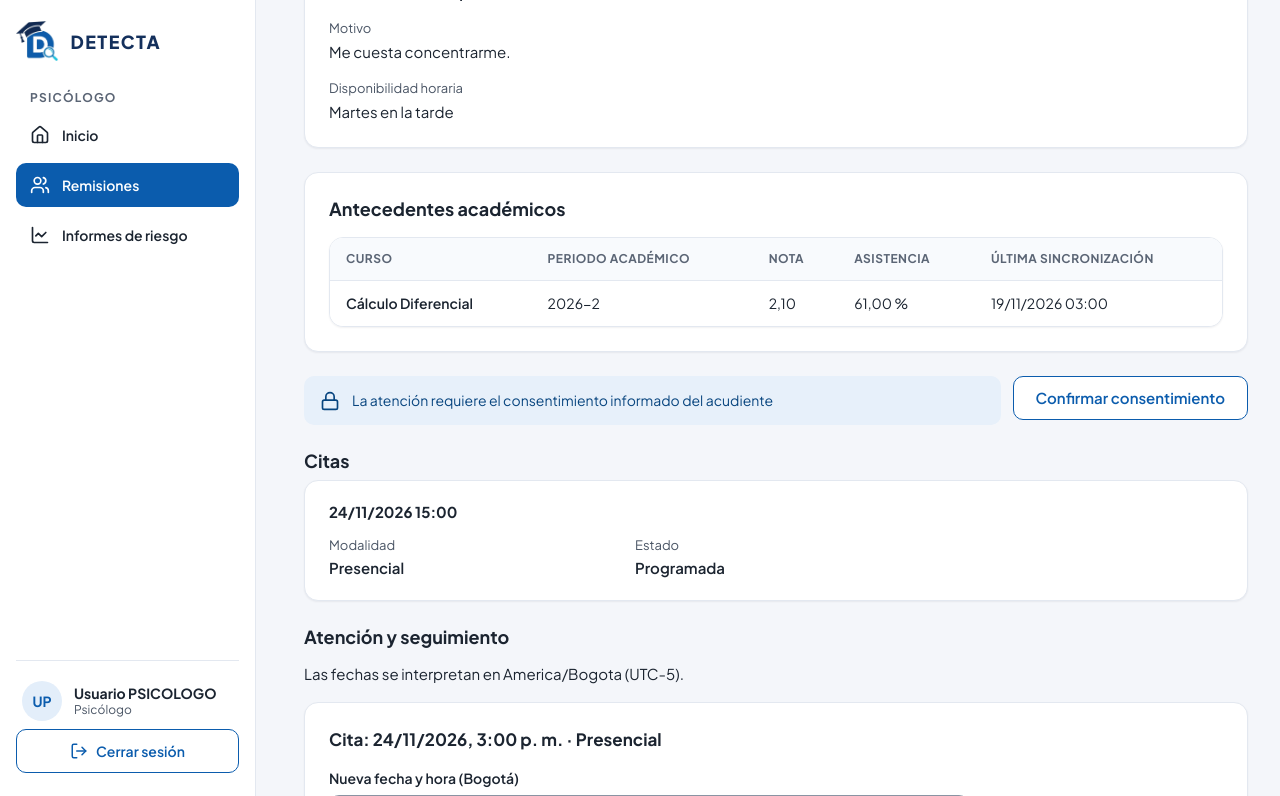
Test case: Consentimiento: confirmación y error (D7a, §7.6) › error al confirmar: se muestra dentro del diálogo, que sigue abierto
(page scrolled)
Click the button "Confirmar consentimiento" at (1130, 398), box [1013, 376, 1248, 420]
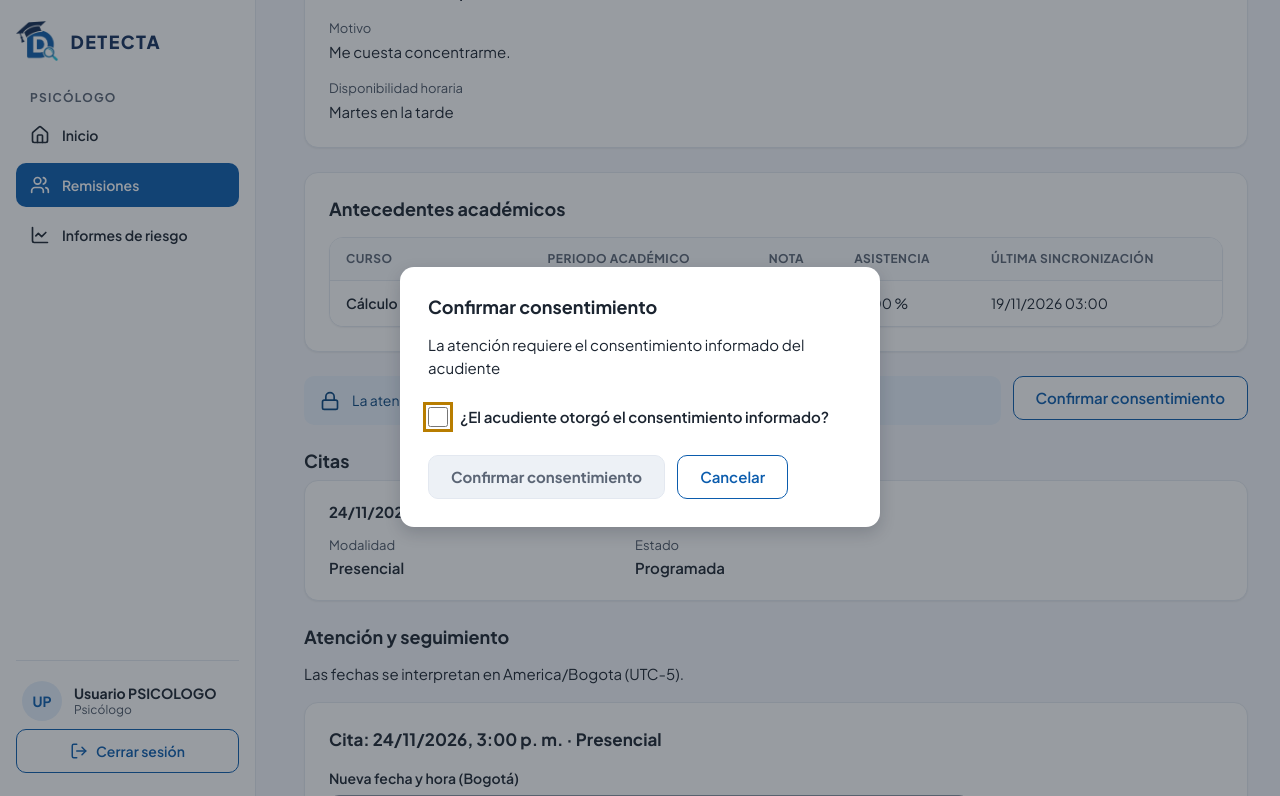
Click the checkbox labelled "¿El acudiente otorgó el consentimiento informado?" at (438, 417), box [428, 407, 448, 427]
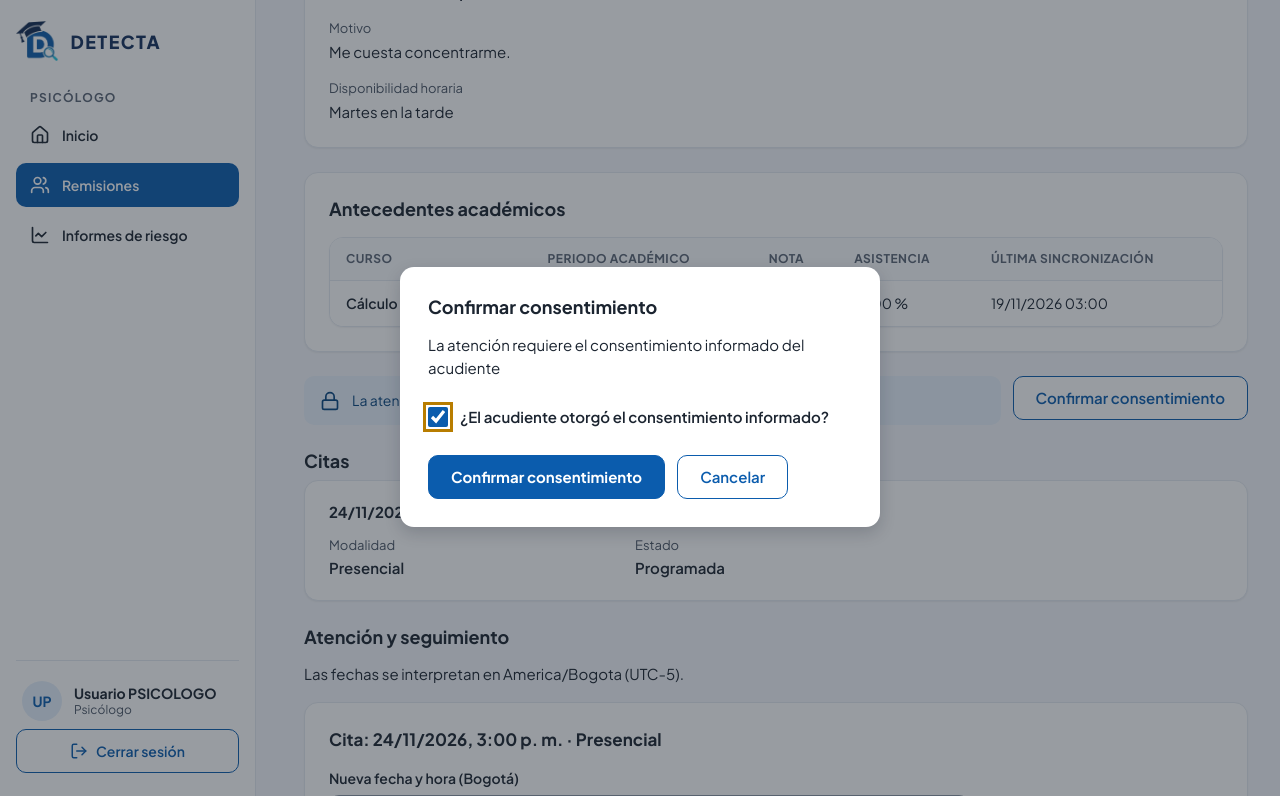
Click the 2nd button "Confirmar consentimiento" at (547, 477), box [428, 455, 665, 499]
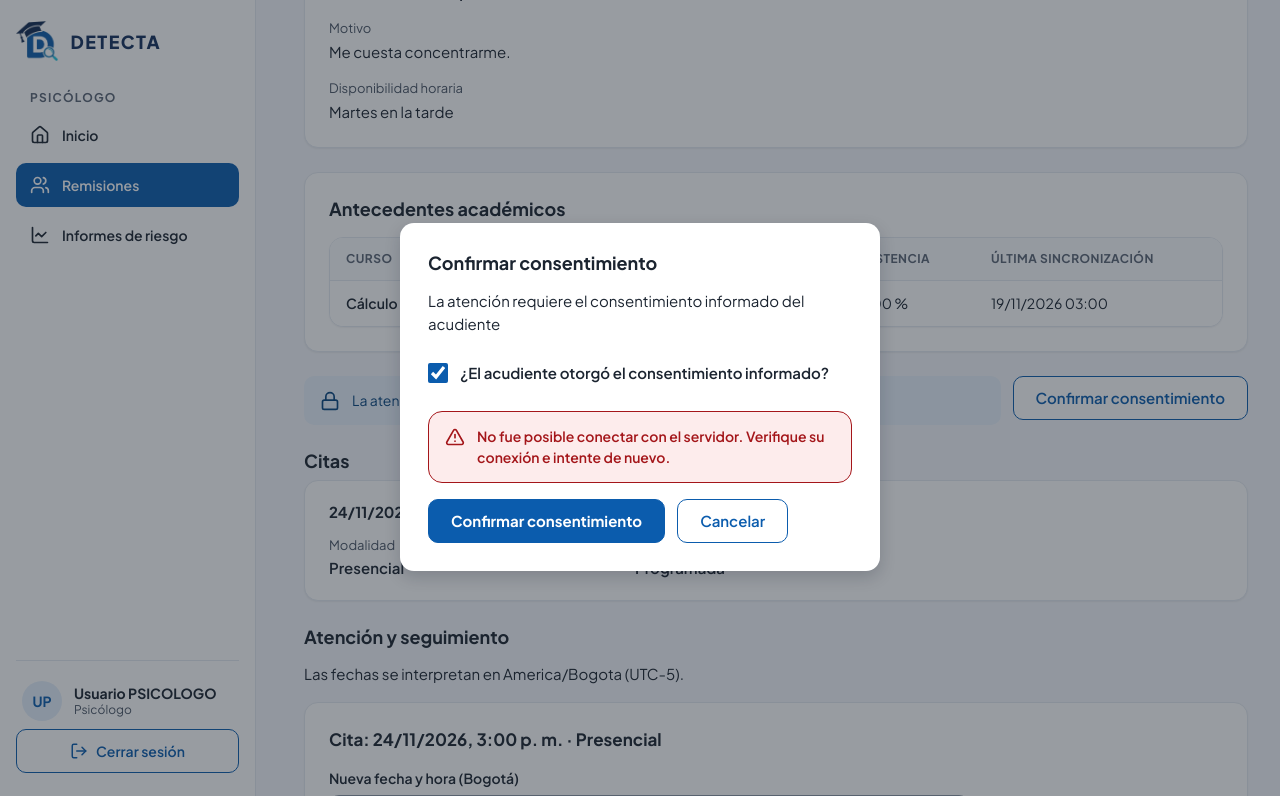
Result: the message is shown at [428, 411, 852, 483]
